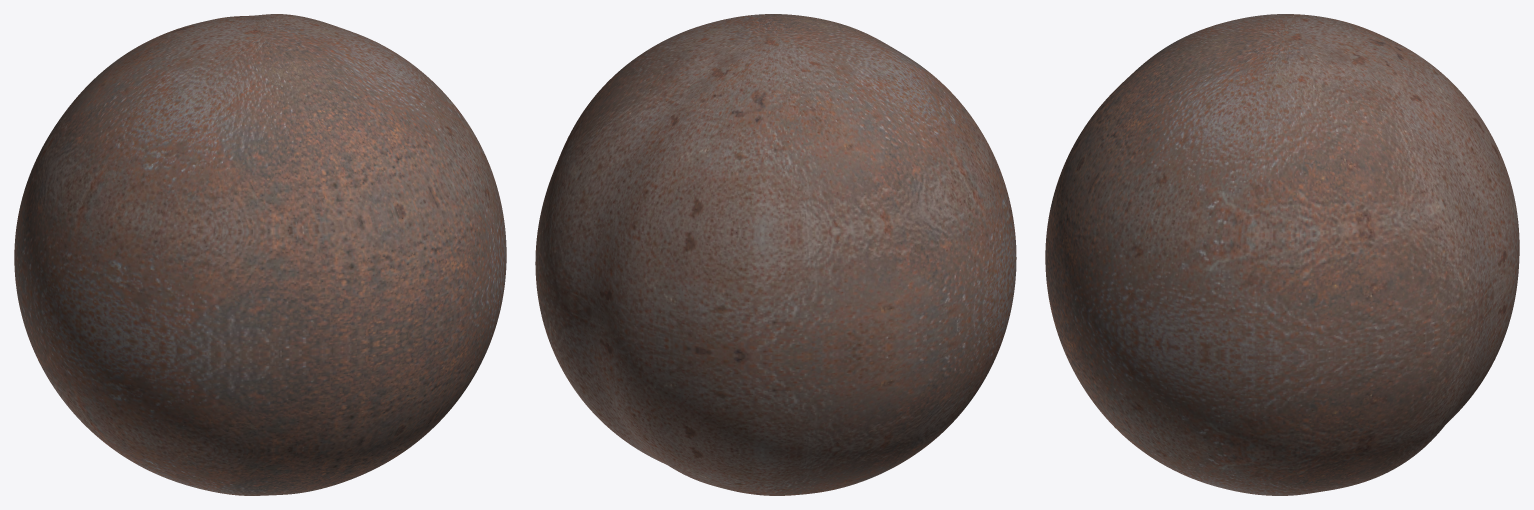
Rendered from Kugel_38896.3.glb.
3 views of the same model, side by side, from view 1: azimuth 30°, elevation 25°; view 2: azimuth 150°, elevation 25°; view 3: azimuth 270°, elevation 25° (orthographic).
Parts seen in each view (by area): view 1: Kugel; view 2: Kugel; view 3: Kugel.
Boxes of the visible parts, <box> form: Kugel: <box>14,14,506,495</box>; Kugel: <box>535,14,1016,495</box>; Kugel: <box>1045,14,1519,495</box>.
Bounding box in the file's own units: 0.2852 × 0.28 × 0.2764.
1 material, 1 textured.
